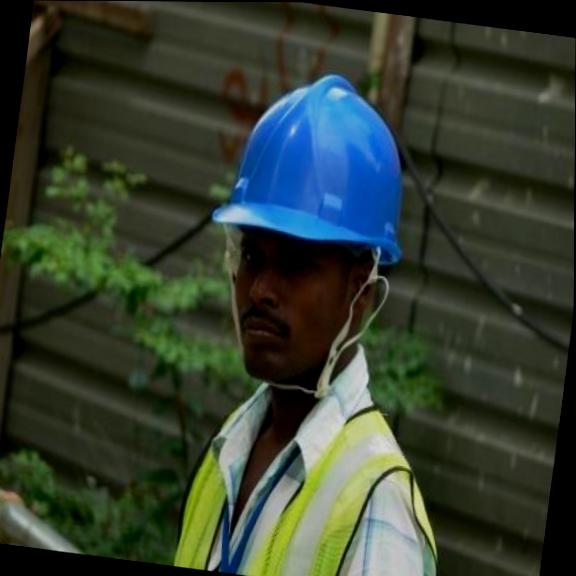safety_vest: (175, 380, 457, 576)
